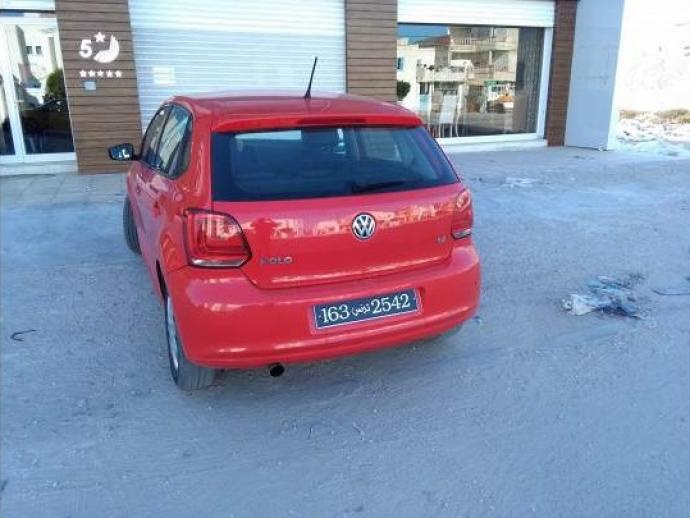LP: (313, 287, 421, 325)
